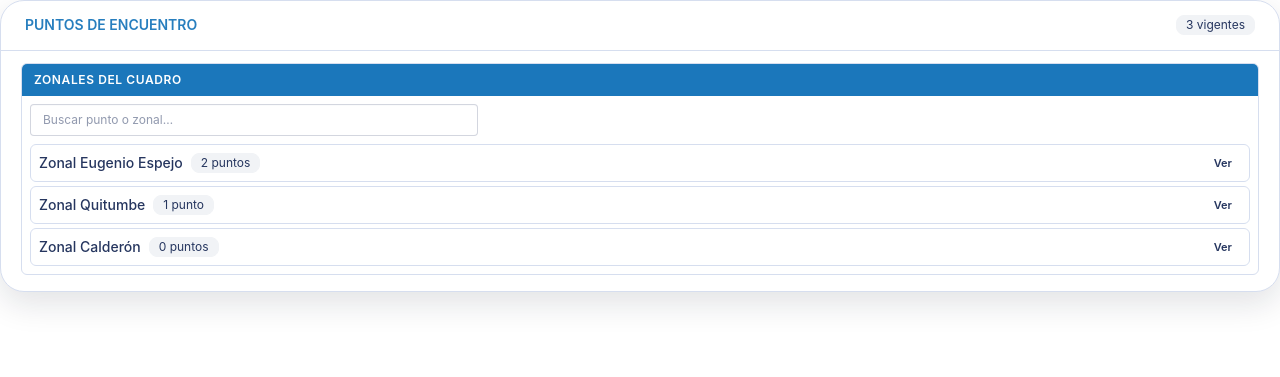
Test: la búsqueda › por punto deja solo ese, y dice cuántos de cuántos
The image size is (1280, 377).
Type "rio coca" into the search field labelled "Buscar punto o zonal". click: (254, 120)
box: [30,104,478,136]
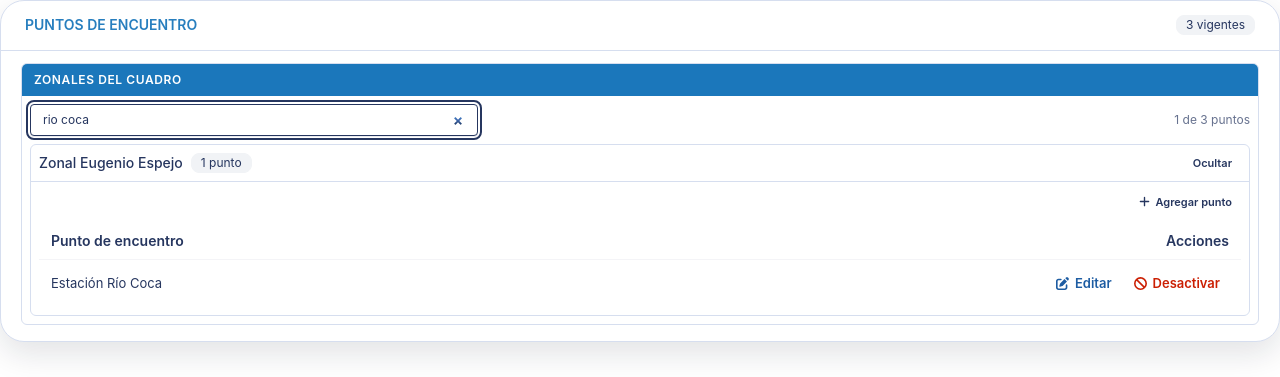
Now the text "Estación Río Coca" is shown, box [39,260,558,307]
Now the message reads "1 de 3 puntos", box [1174,112,1250,128]
